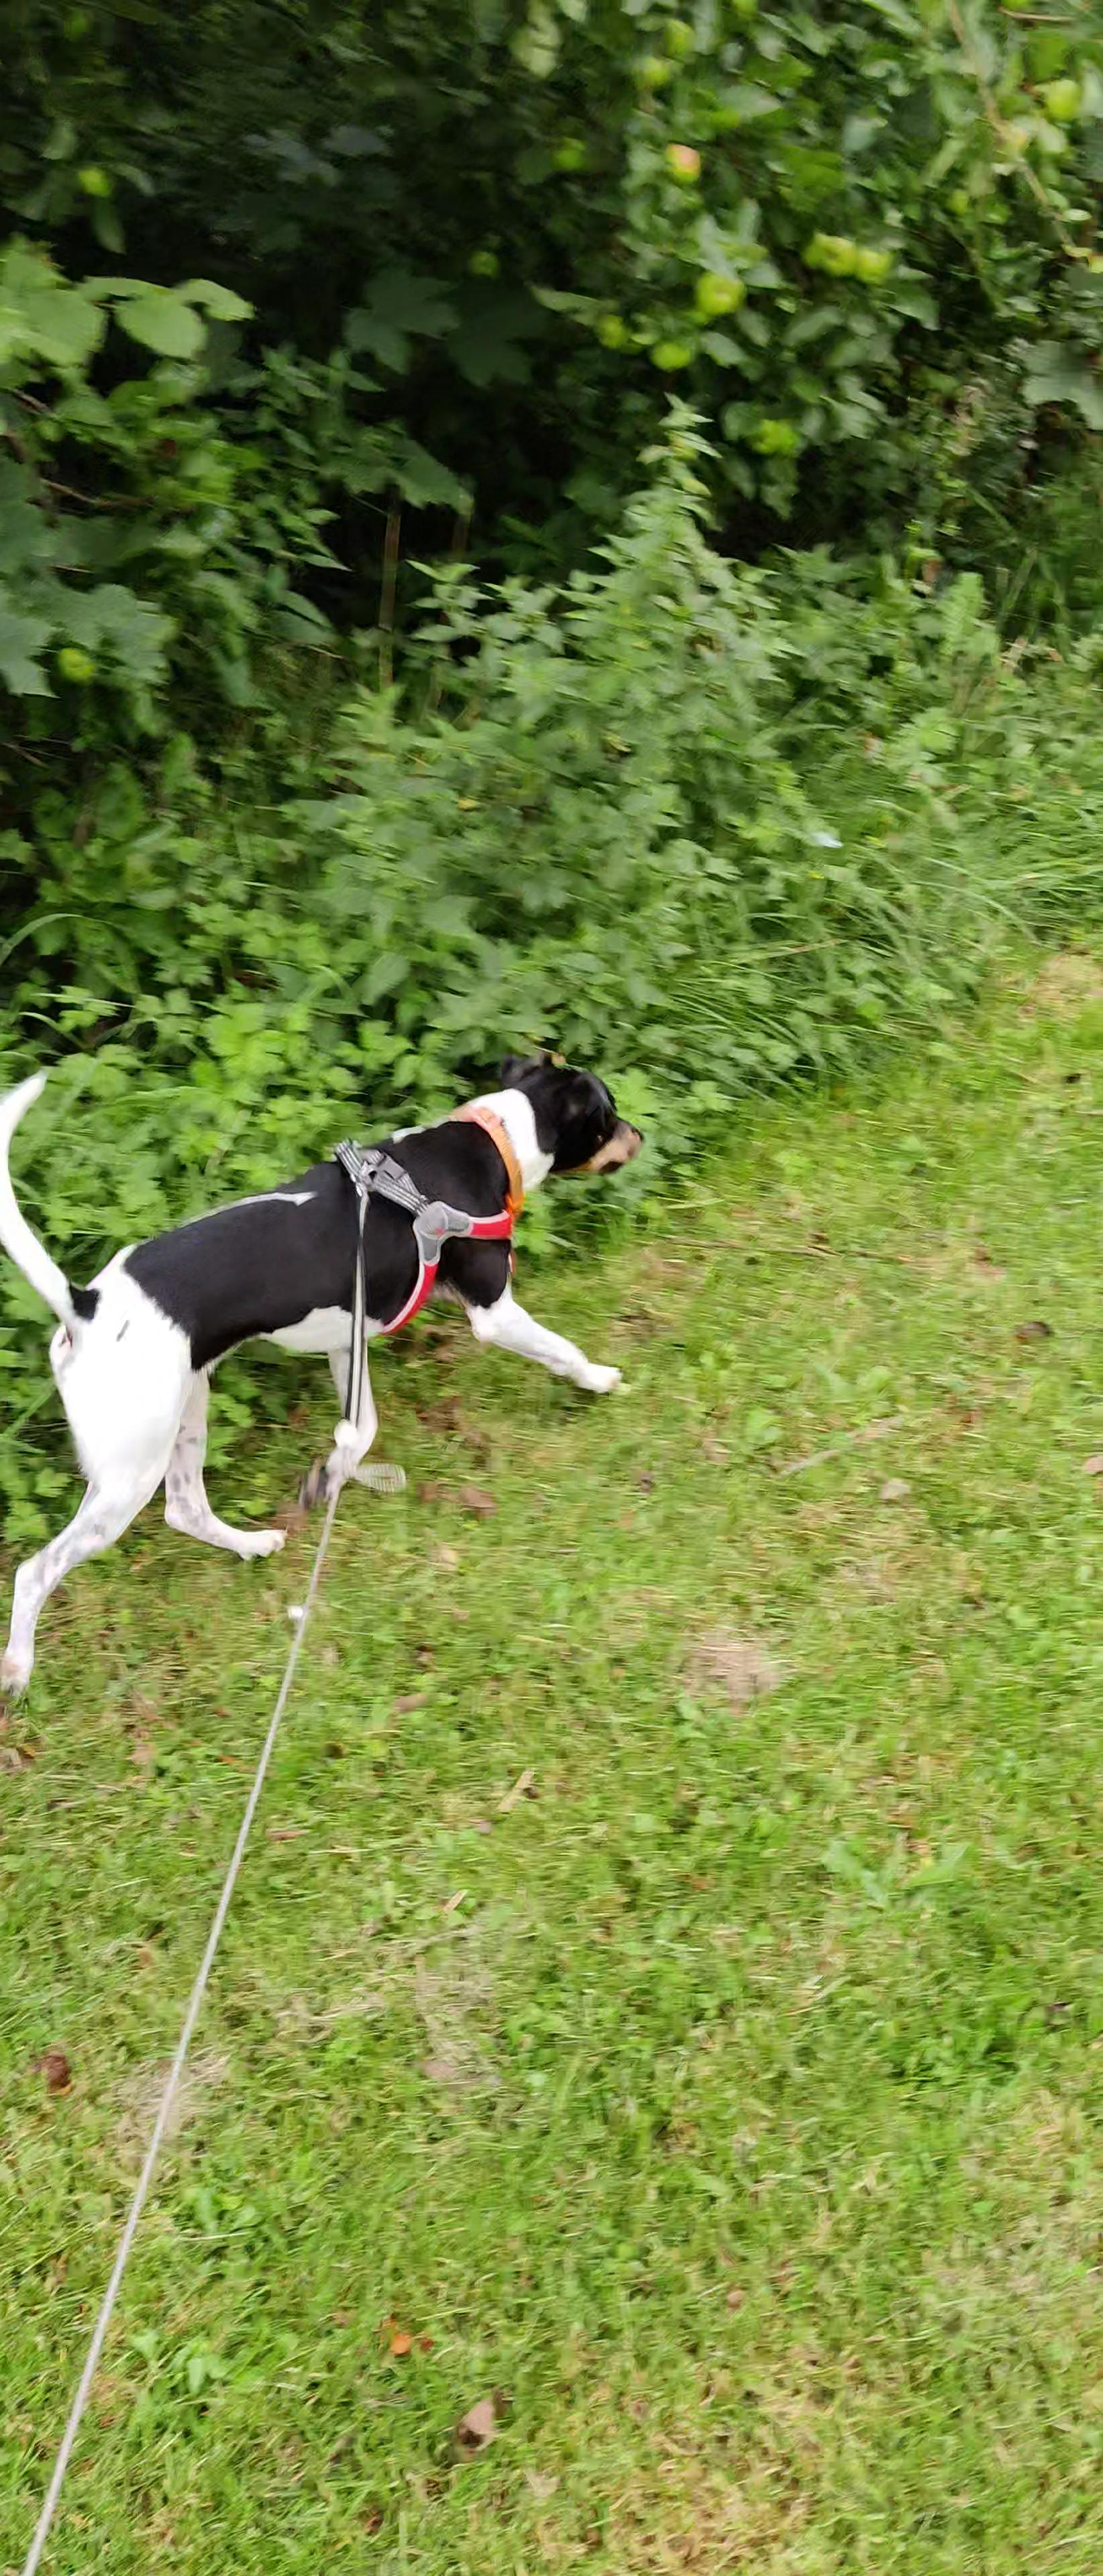Dog: (0, 1033, 681, 1723)
